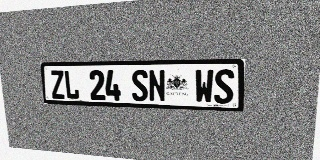2: (89, 70, 105, 100)
4: (104, 70, 121, 101)
L: (64, 70, 80, 99)
N: (148, 70, 166, 102)
S: (214, 69, 234, 104), (131, 70, 148, 101)
W: (195, 69, 214, 103)
Z: (50, 70, 65, 99)
